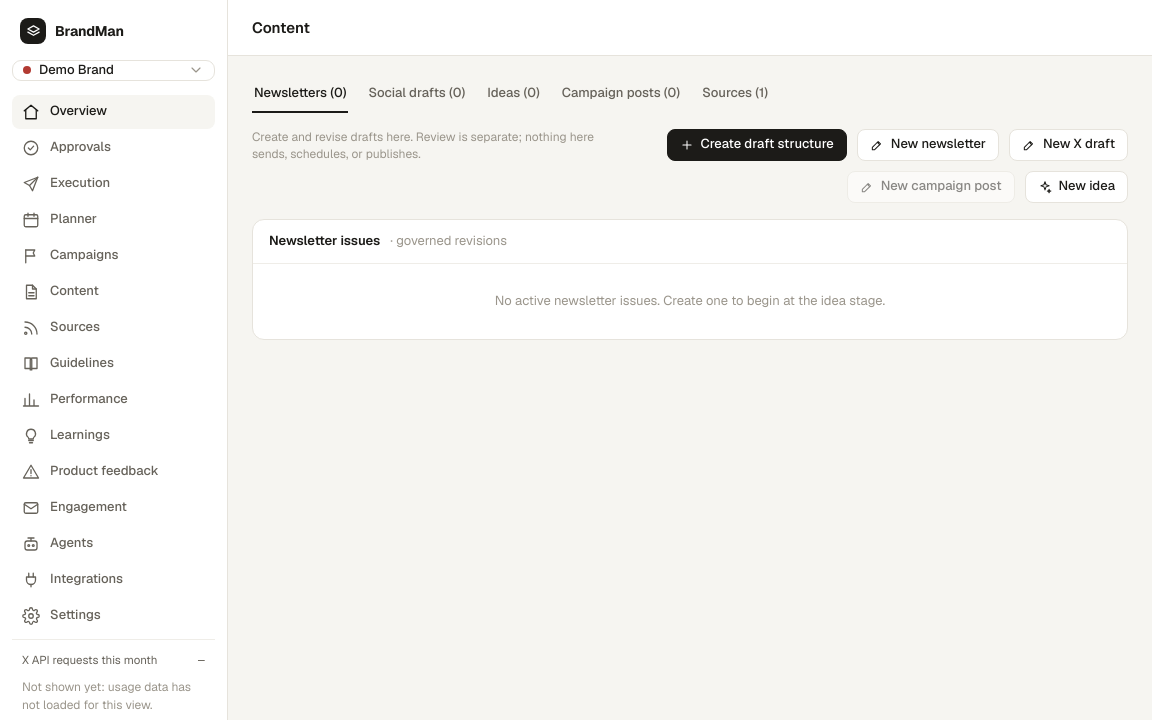
it: Content authoring flows › previews exact evidence and guideline binding before explicit draft-only confirmation
Click the button "Create draft structure" at coordinates (757, 145), box [667,129,847,161]
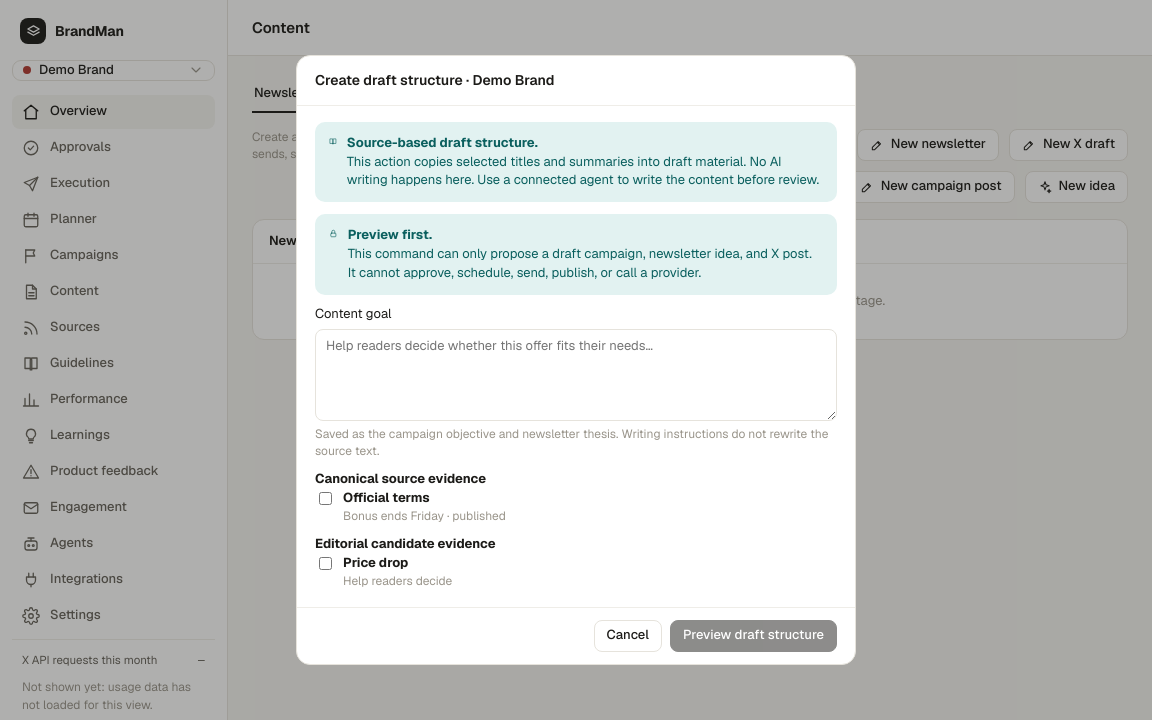
Result: the text "Use a connected agent to write the content before review" is shown at [347,153,819,188]
Result: the text "Writing instructions do not rewrite the source text" is shown at [315,426,828,459]
Type "Build decision support from the official terms." into the text box labelled "Content goal" at coordinates (576, 375), box [315,329,837,421]
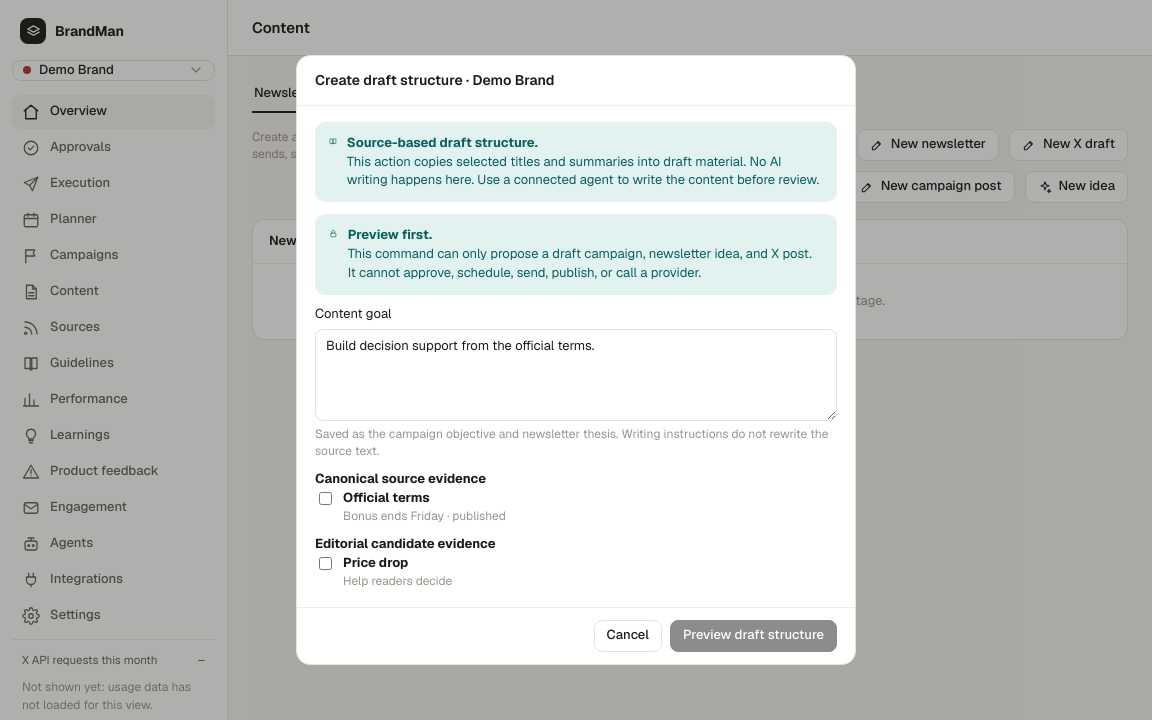
Click the text "Official terms" at coordinates (386, 498), box [343,489,430,506]
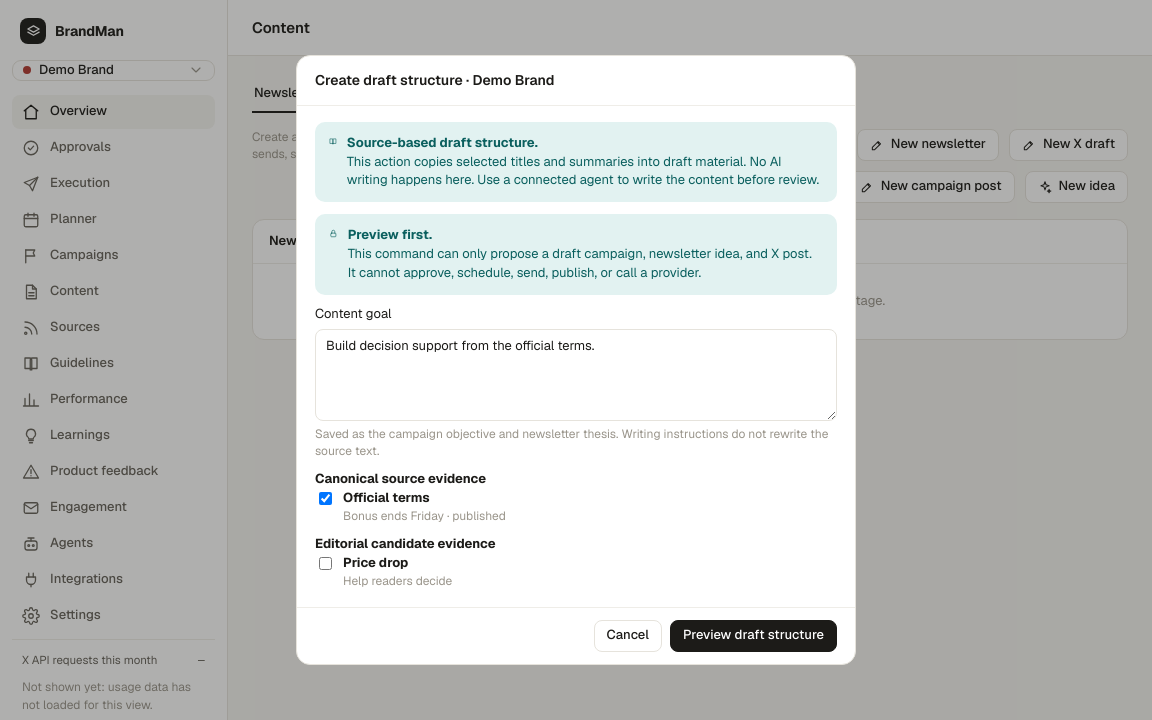
Click the button "Preview draft structure" at coordinates (753, 636), box [670,620,837,652]
(page scrolled)
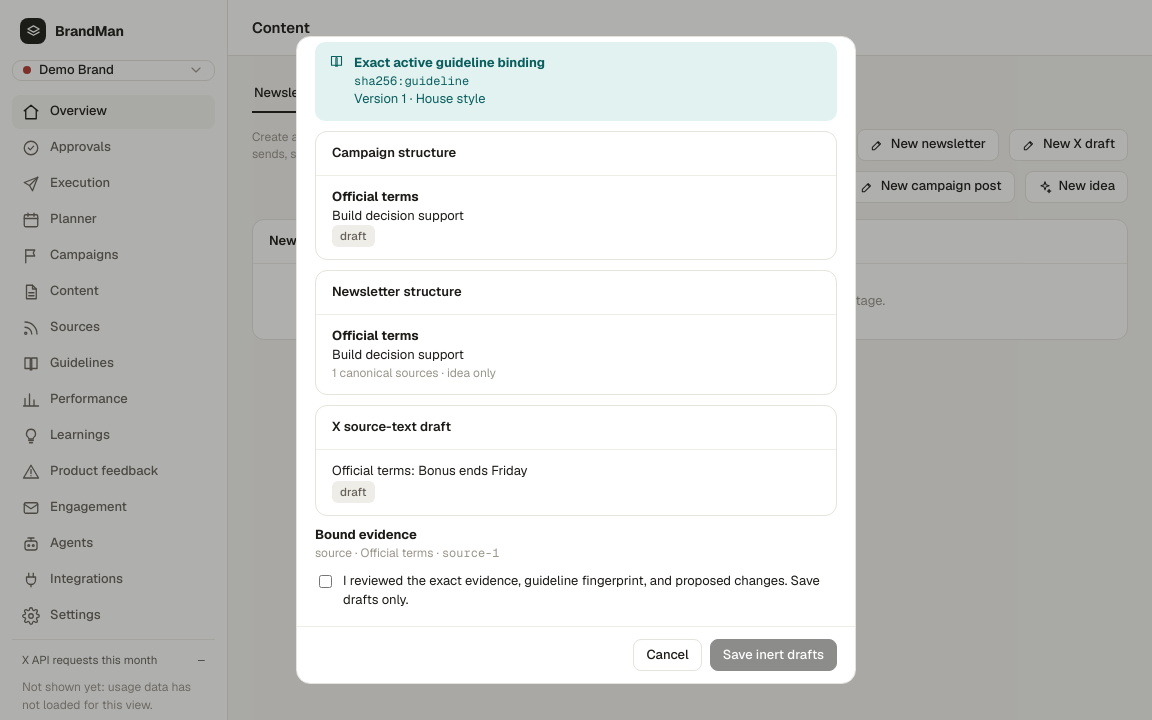
Result: the text "sha256:guideline" is shown at [354,73,469,89]
Result: the text "X source-text draft" is shown at [332,418,451,437]
Result: the button "Save inert drafts" is disabled at [710,639,837,671]
Click the checkbox named "Confirm inert drafts" at coordinates (326, 582), box [319,575,332,588]
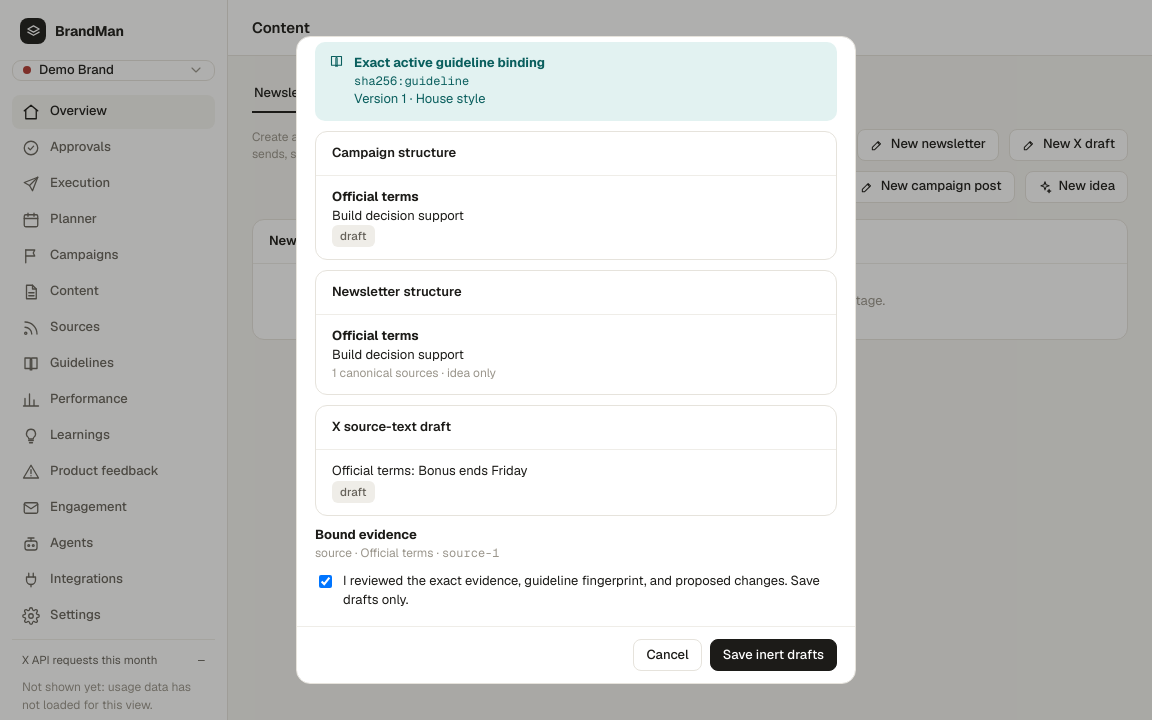
Click the button "Save inert drafts" at coordinates (773, 655), box [710,639,837,671]
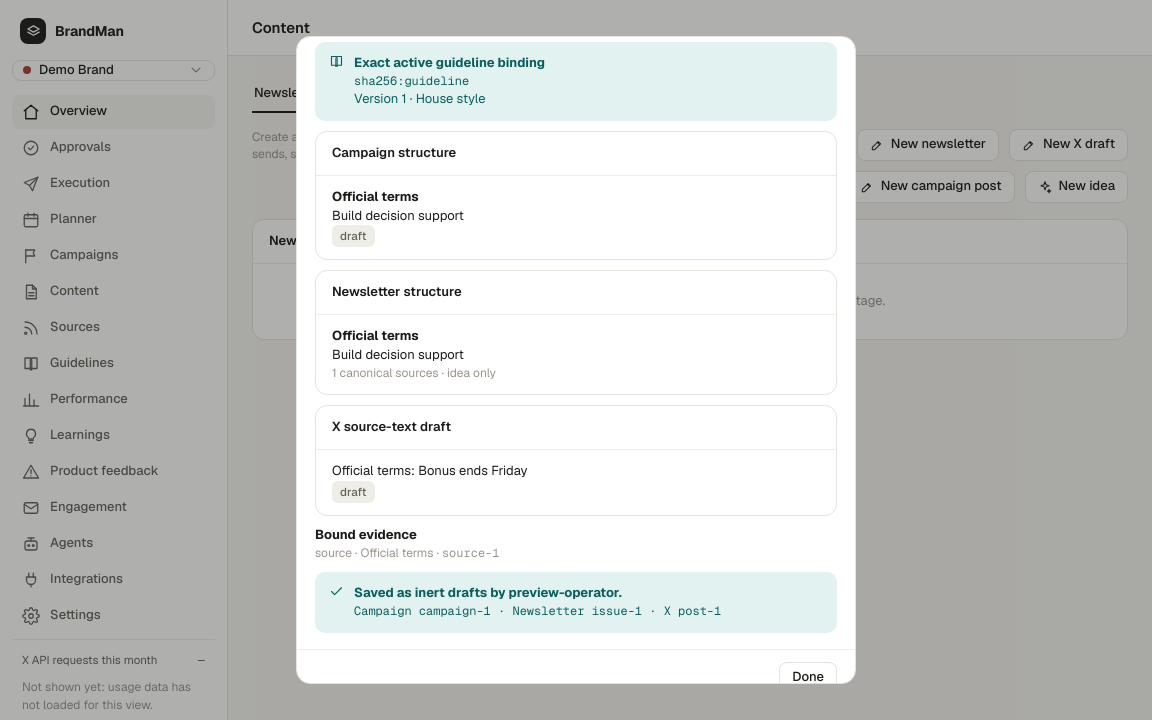
Result: the text "Saved as inert drafts by preview-operator." is shown at [354,584,622,601]
